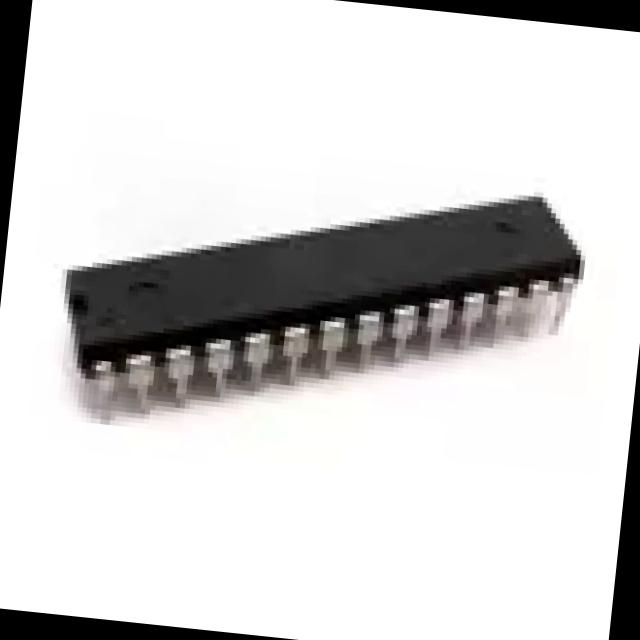atmega: (41, 138, 596, 473)
